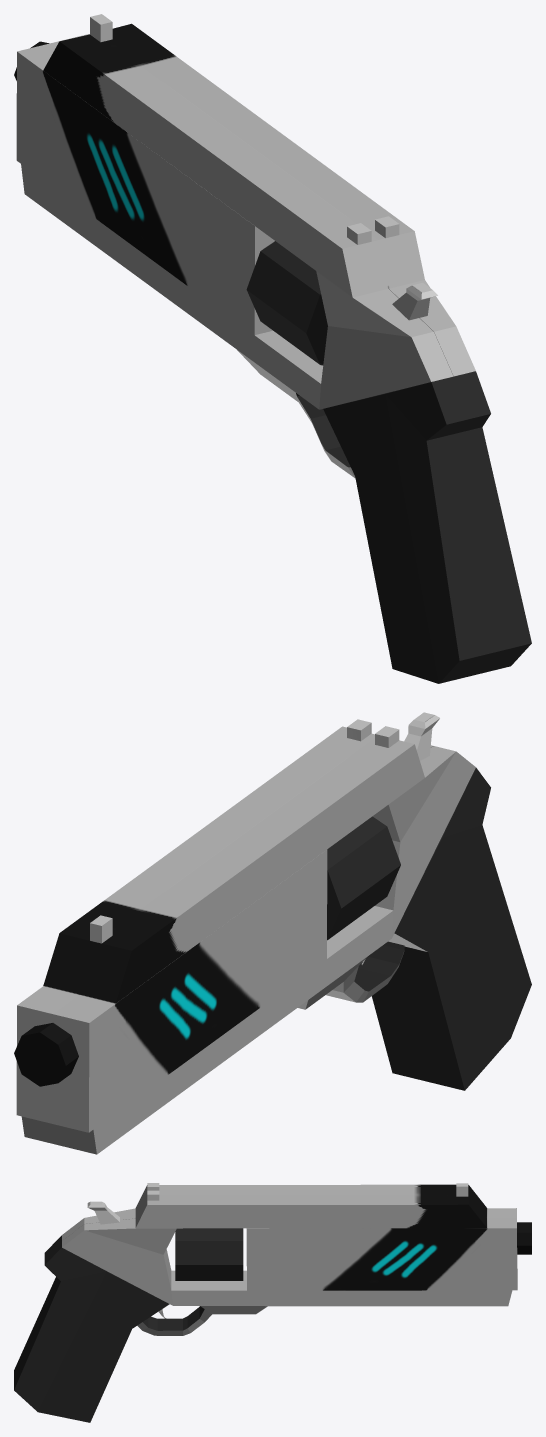
The model's file is rbsGun.fbx.
3 renders of one model, top to bottom at view 1: azimuth 30°, elevation 25°; view 2: azimuth 150°, elevation 25°; view 3: azimuth 270°, elevation 25°, orthographic. The views are drawn at different scales.
Visible parts, largest first — view 1: Base, Cylinder; view 2: Base, Cylinder; view 3: Base, Cylinder.
Part boxes in pixels (x1,y1,x2,y2): Base: (14,14,531,683); Cylinder: (246,241,327,365); Base: (14,712,531,1154); Cylinder: (327,816,400,940); Base: (14,1183,531,1422); Cylinder: (175,1228,243,1280).
Bounding box in the file's own units: 49.28 × 199 × 410.
